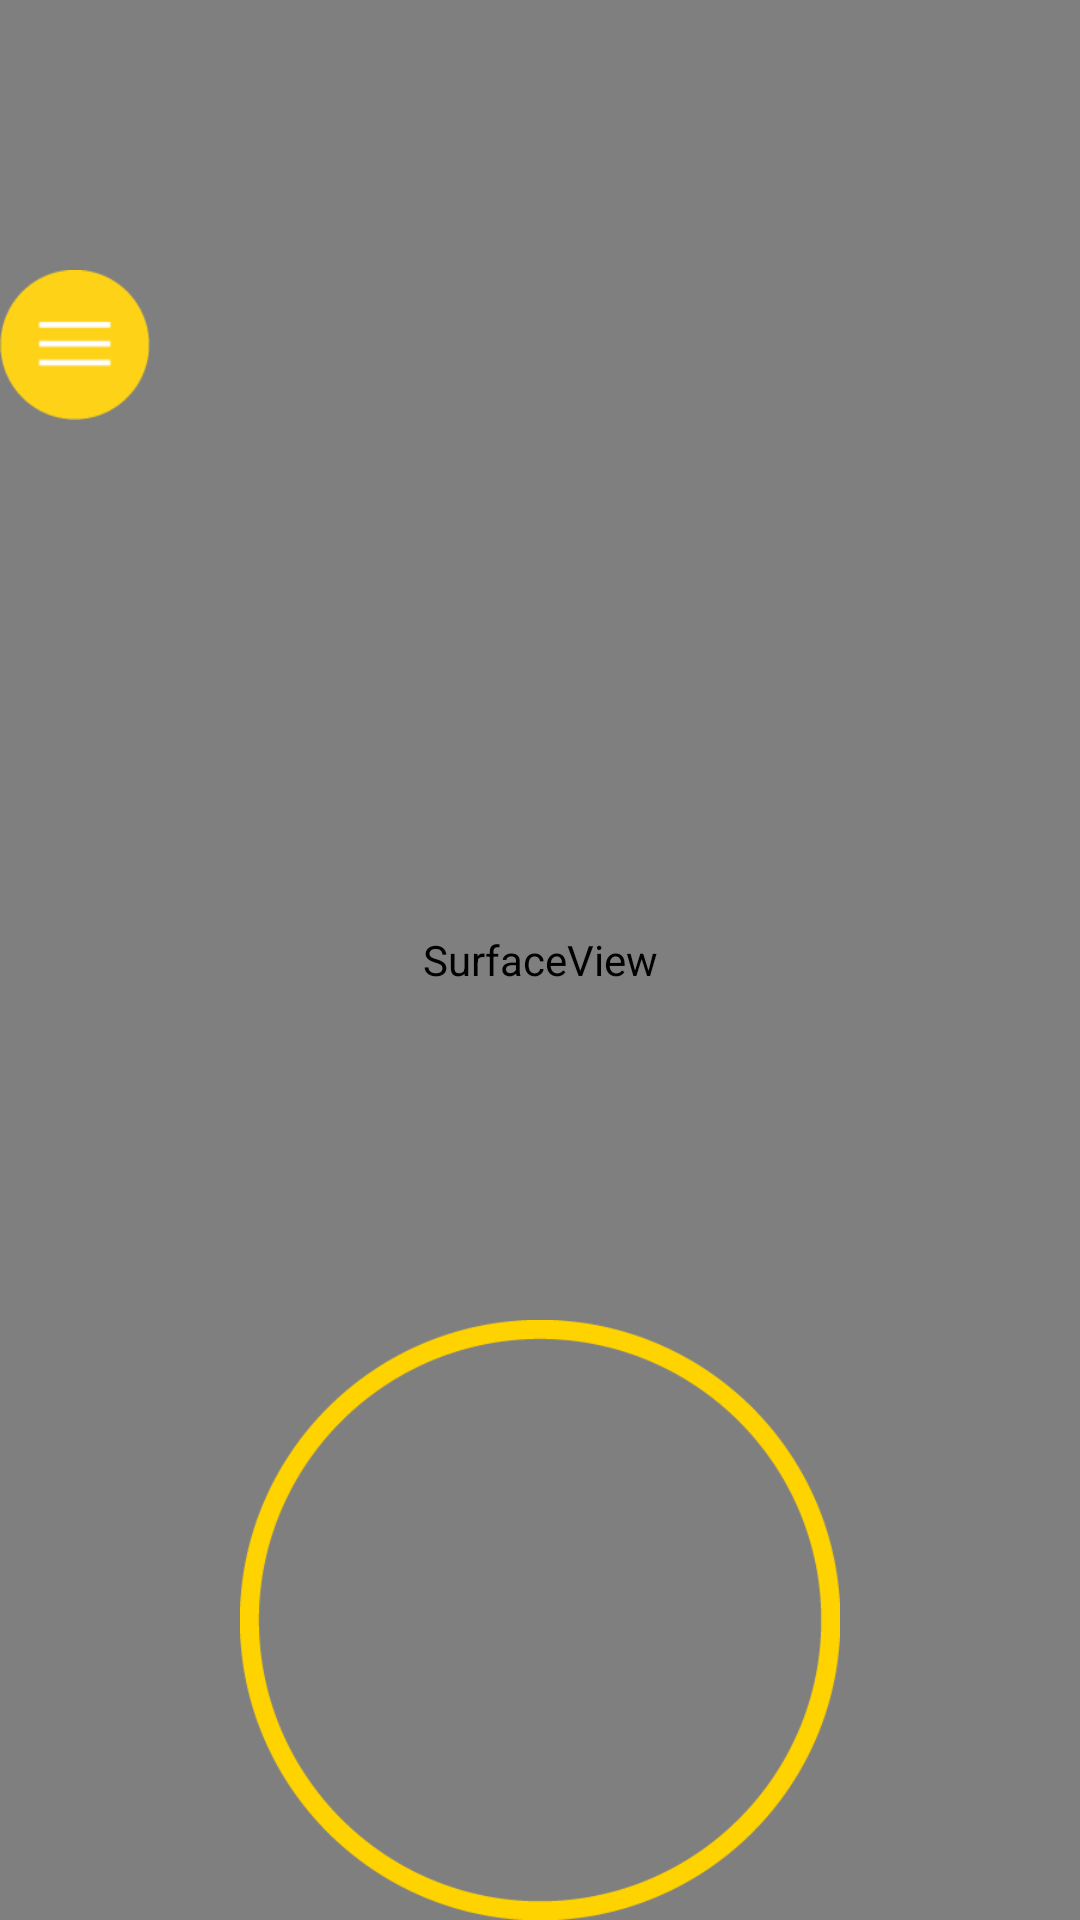

Icons on this 1080px×1920px Android screen, each with the point to tap as point (x, y):
menuappel: point (75, 345)
